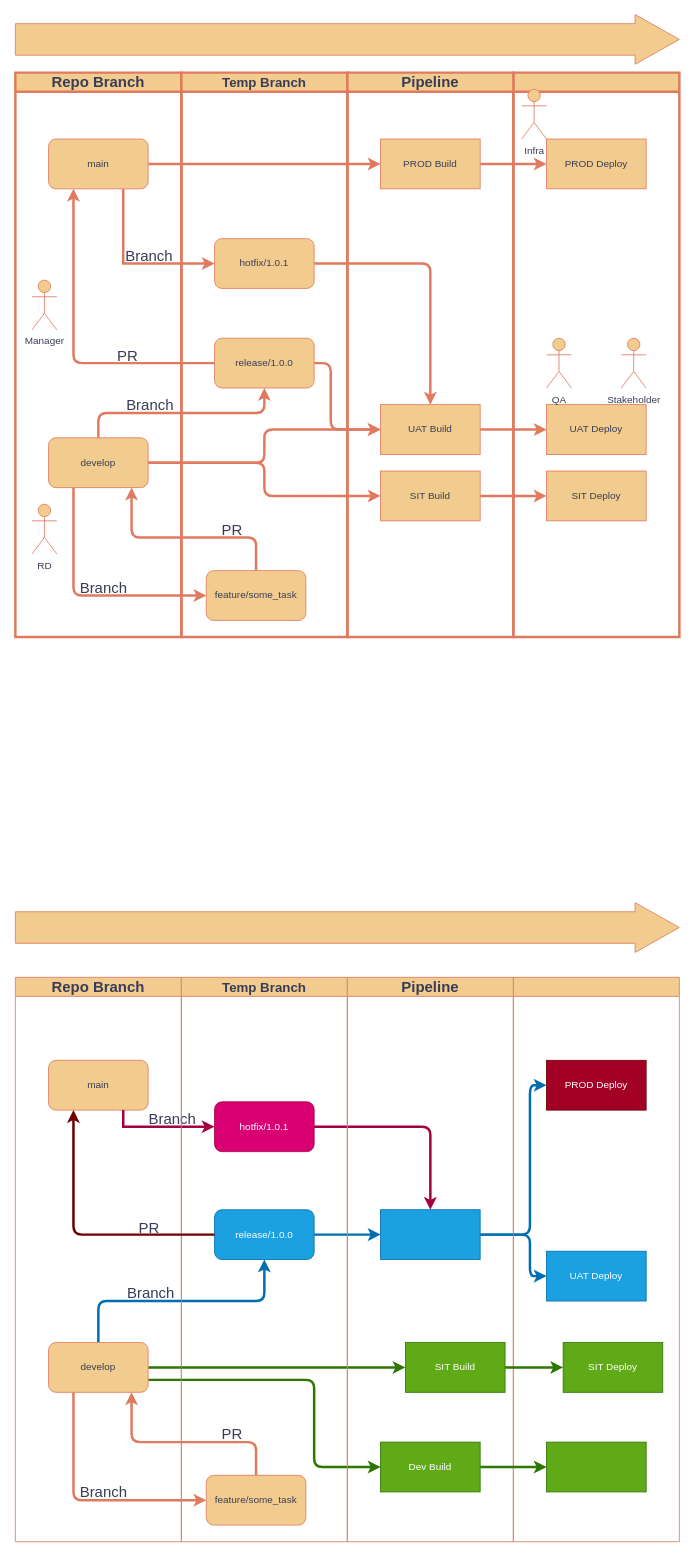
The diagram is 695 pixels wide and 1556 high, and some of its shapes have lost their labels. The box of each missing label's shape, as (x1, y1, x2, y2) in pixels:
Release: (512, 71, 680, 638)
Release Build: (380, 1209, 480, 1260)
Release Env: (513, 976, 679, 1542)
Sandbox Deploy: (546, 1441, 646, 1492)
